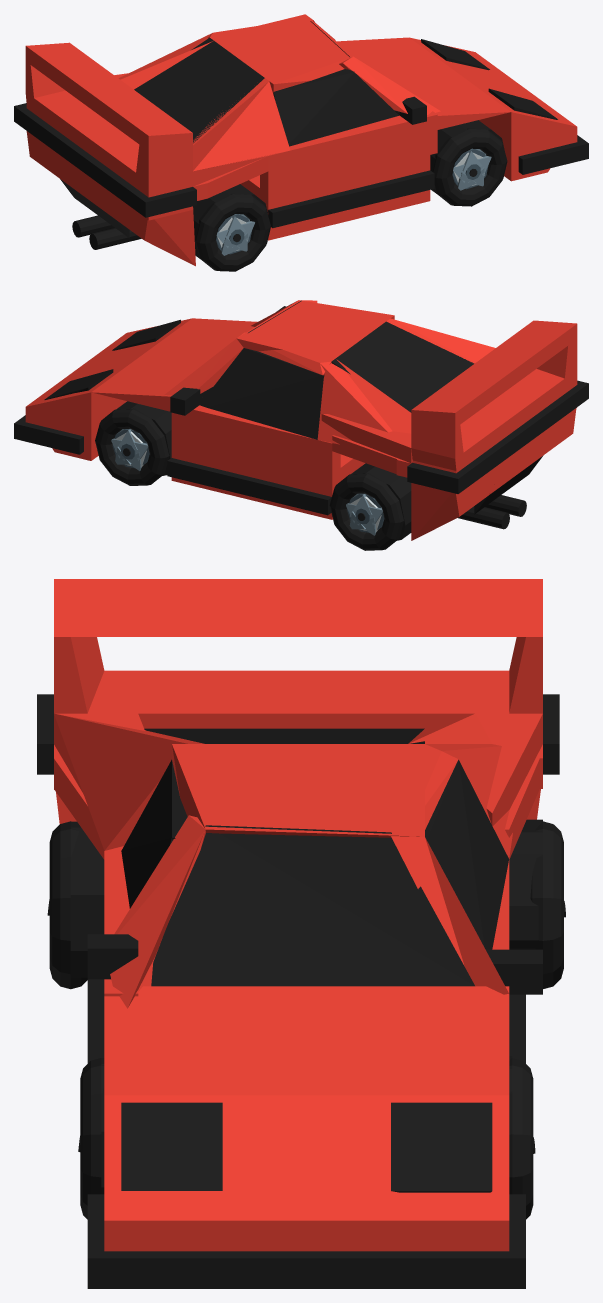
The model's file is DREAM FERRARI F40.glb.
3 renders of one model, top to bottom at view 1: azimuth 30°, elevation 25°; view 2: azimuth 150°, elevation 25°; view 3: azimuth 270°, elevation 25°, orthographic. The views are drawn at different scales.
Visible parts, largest first — view 1: group956056105, group198852036, group102746035, group2031158171, group275570896, group2092262242, group1388350157, group1360006440, group216690391, group1923211778, group243197295, group99300831 (+18 smaller); view 2: group1449298864, group198852036, group102746035, group2031158171, group38904309, group351276238, group275570896, group1388350157, group600872950, group243197295, group99300831, group1650314569 (+22 smaller); view 3: group2031158171, group109924994, group1388350157, group198852036, group275570896, group1650314569, group875376599, group344841023, group1923211778, group398477270, group1825421313, group1449298864 (+24 smaller).
Part boxes in pixels (x1,y1,x2,y2): group956056105: (260,111,437,194); group198852036: (25,42,192,150); group102746035: (134,37,264,143); group2031158171: (336,37,510,131); group275570896: (210,14,352,94); group2092262242: (273,69,399,146); group1388350157: (410,37,576,181); group1360006440: (193,184,270,271); group216690391: (430,120,507,206); group1923211778: (193,78,290,171); group243197295: (240,155,430,240); group99300831: (26,131,195,266); group1449298864: (199,348,324,439); group198852036: (412,320,577,427); group102746035: (331,321,474,412); group2031158171: (91,318,257,411); group38904309: (171,405,324,479); group351276238: (329,463,411,550); group275570896: (236,300,394,362); group1388350157: (26,318,191,460); group600872950: (95,401,171,485); group243197295: (171,435,365,519); group99300831: (411,408,576,540); group1650314569: (411,380,559,472); group2031158171: (104,986,509,1095); group109924994: (151,825,474,986); group1388350157: (104,1095,509,1220); group198852036: (54,579,542,636); group275570896: (172,744,424,837); group1650314569: (121,670,509,728); group875376599: (87,1230,525,1288); group344841023: (104,1220,509,1251); group1923211778: (54,713,204,850); group398477270: (391,1102,492,1192); group1825421313: (121,1102,222,1190); group1449298864: (425,759,508,949).
Bounding box in the file's own units: 0.62 × 0.2075 × 0.3137.
